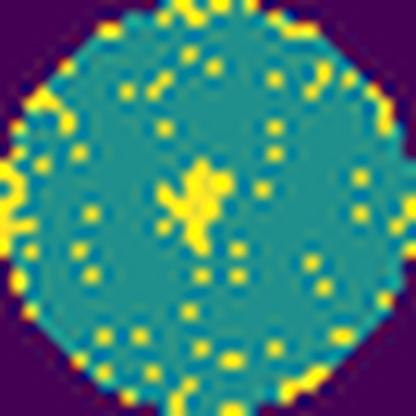Center: (155, 155, 240, 260)
